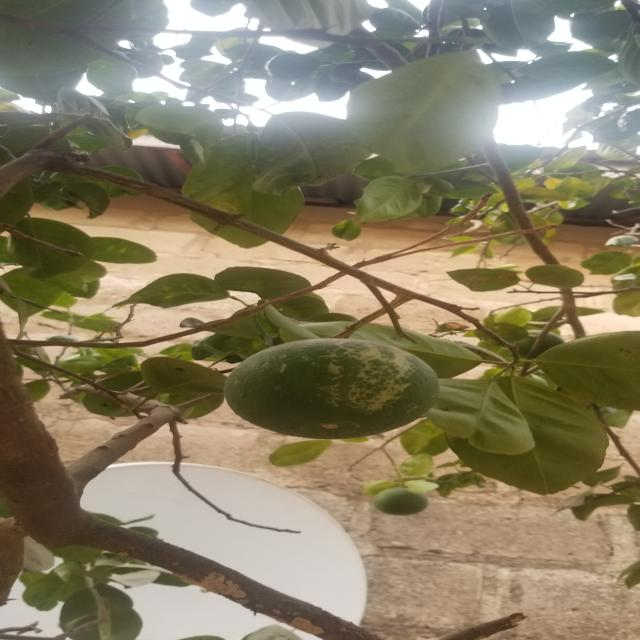Unripe: (202, 329, 463, 449)
